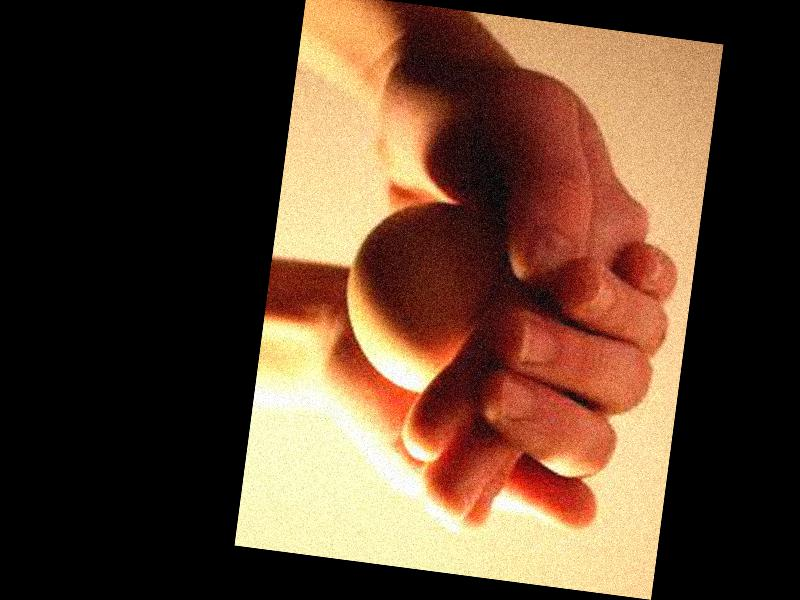Eggs: (334, 189, 505, 400)
